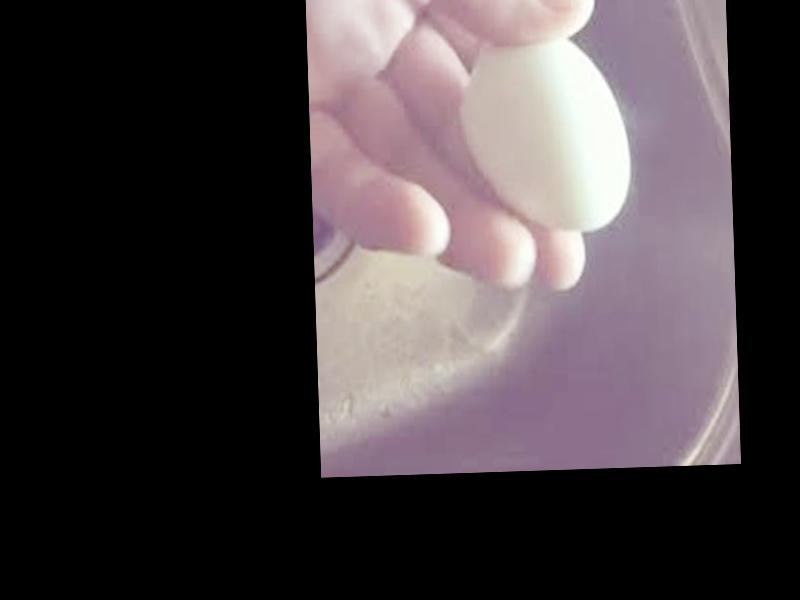Eggs: (461, 35, 632, 235)
